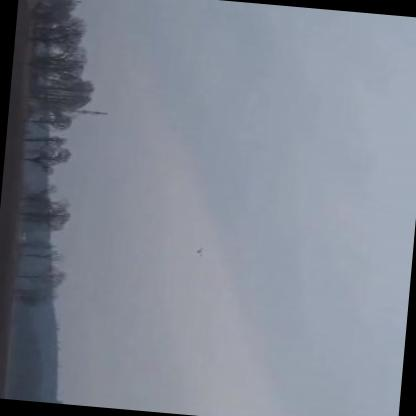plane: (193, 244, 205, 255)
